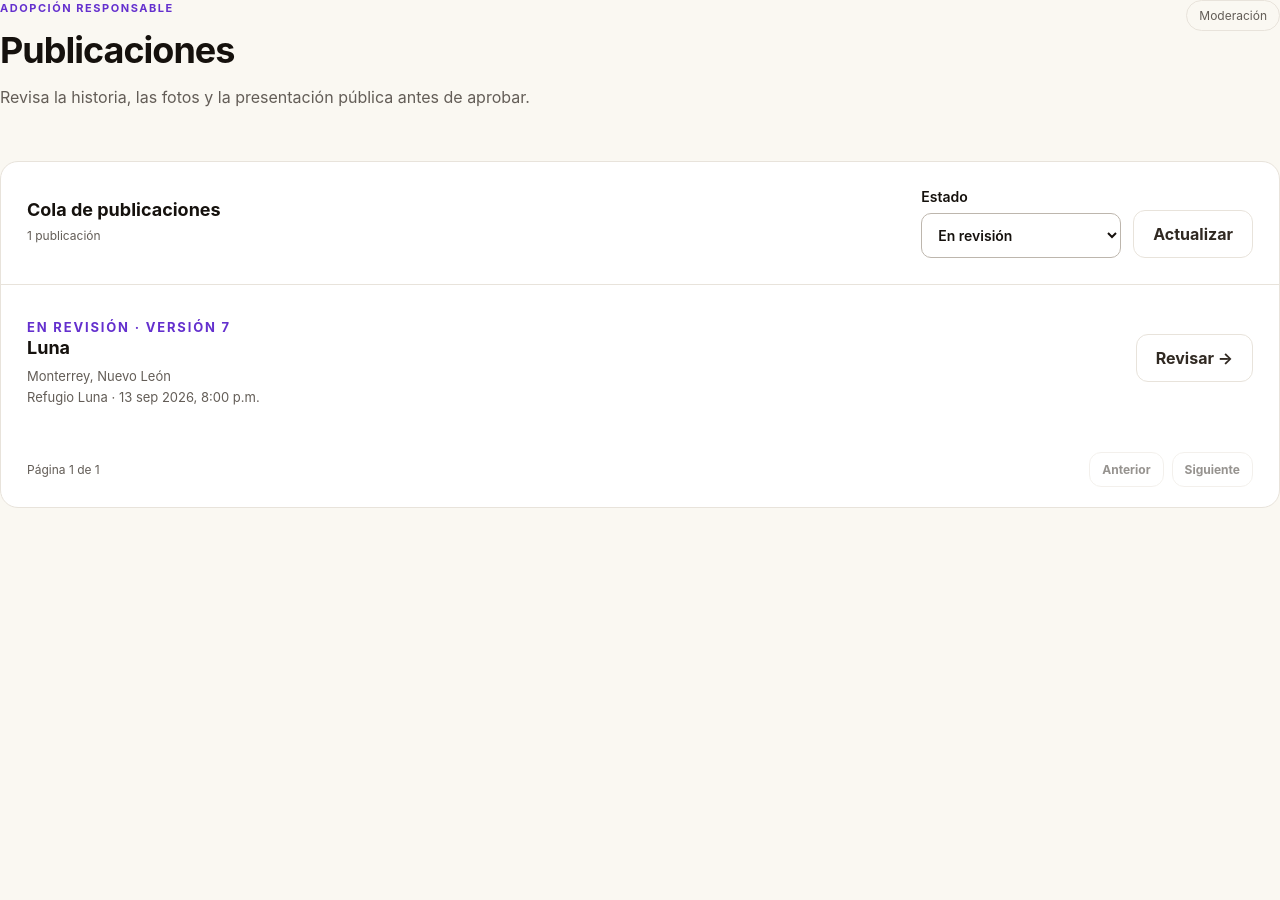
Test: adoption moderation › does not approve when the reviewer cannot load a photo
Click the button with aria-label "Revisar Luna": (1194, 358) [1136, 334, 1253, 382]
(page scrolled)
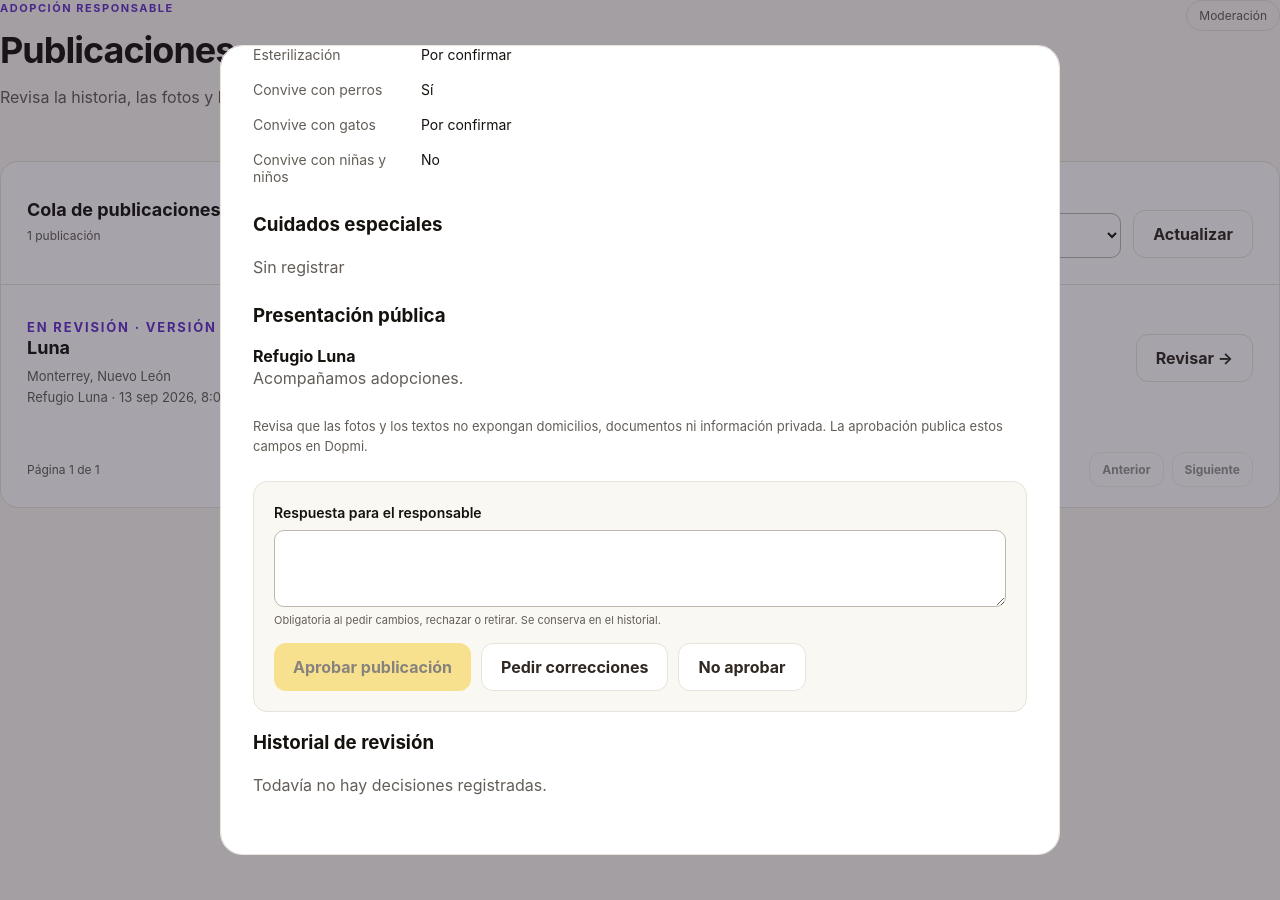
Now the button "Aprobar publicación" is disabled, box [274, 643, 471, 691]
